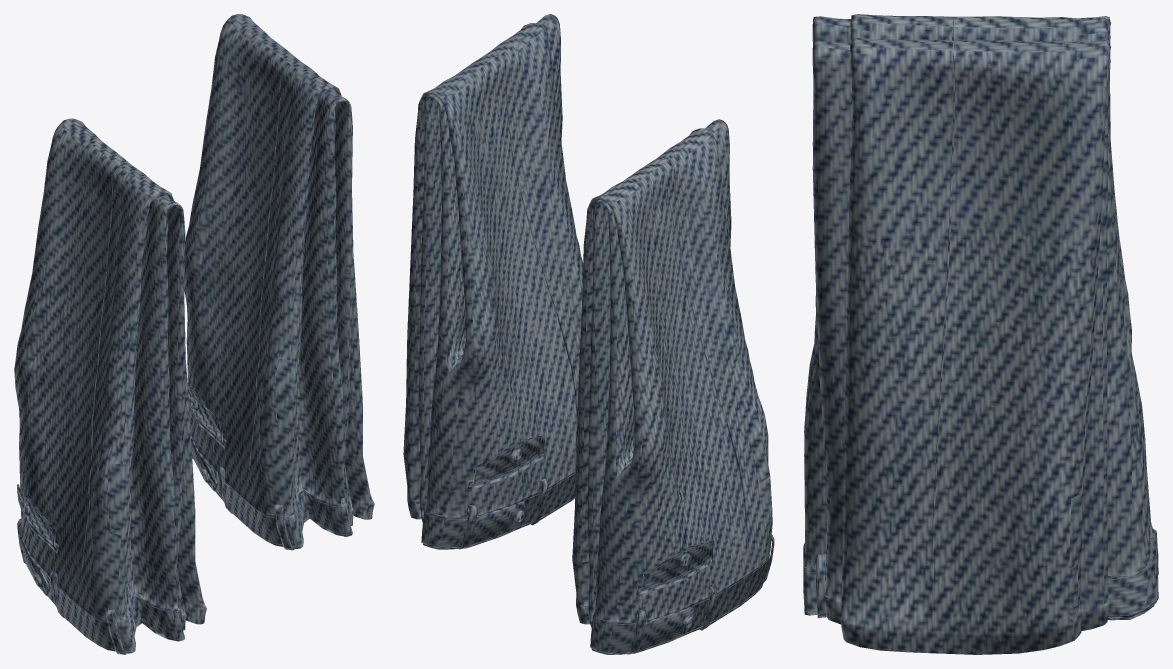
Rendered from yifu10_kuzi_01.fbx.
3 renders of one model, left to right at view 1: azimuth 30°, elevation 25°; view 2: azimuth 150°, elevation 25°; view 3: azimuth 270°, elevation 25°, orthographic. The views are drawn at different scales.
Parts seen in each view (by area): view 1: yifu10_kuzi_01; view 2: yifu10_kuzi_01; view 3: yifu10_kuzi_01.
Part boxes in pixels (x1,y1,x2,y2): yifu10_kuzi_01: [14, 14, 374, 654]; yifu10_kuzi_01: [403, 14, 774, 654]; yifu10_kuzi_01: [803, 14, 1158, 654].
Bounding box in the file's own units: 39.5 × 67.21 × 32.13.
